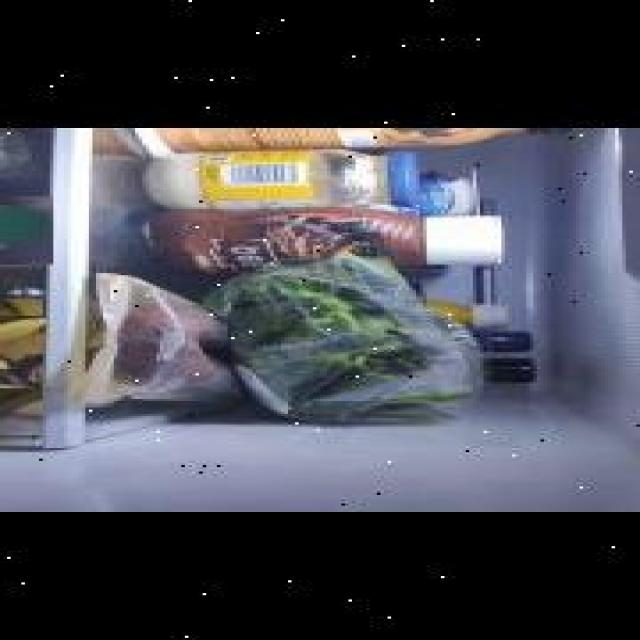banana: (0, 298, 124, 435), (0, 299, 71, 388), (0, 315, 53, 354)
mayonaise: (144, 150, 414, 212)
milk: (0, 196, 89, 265)
